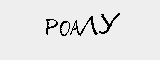Г: (102, 20, 115, 35)
М: (40, 16, 65, 32)
П: (86, 19, 101, 34)
У: (67, 17, 88, 32)
Щ: (115, 21, 142, 38)
Ң: (14, 15, 38, 38)
